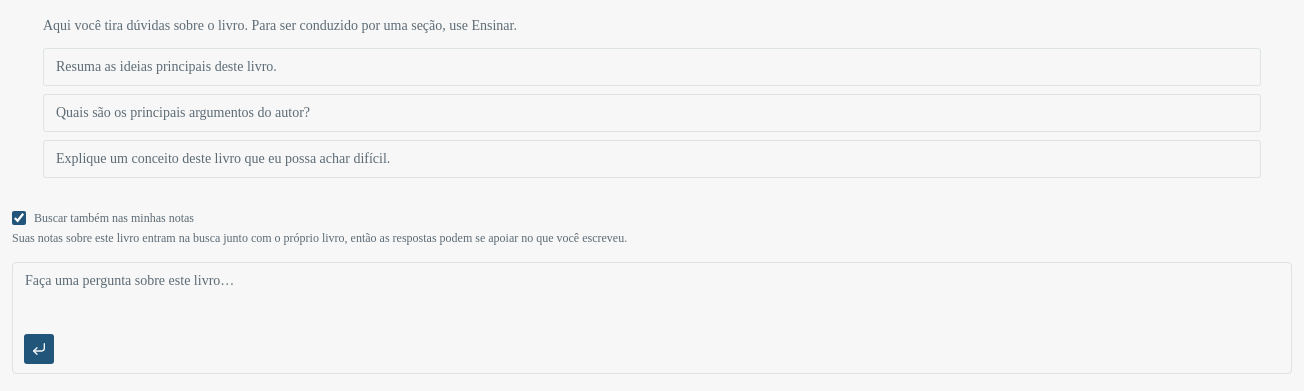
AskPanel in pt-BR › not-found answer and the locked notes choice: renders in pt-BR
This screenshot has width=1304, height=391.
Type "um termo sem sentido" into the text box with placeholder "Faça uma pergunta sobre este livro…".
click(652, 295); type("um termo sem sentido")  # box [13, 263, 1291, 327]
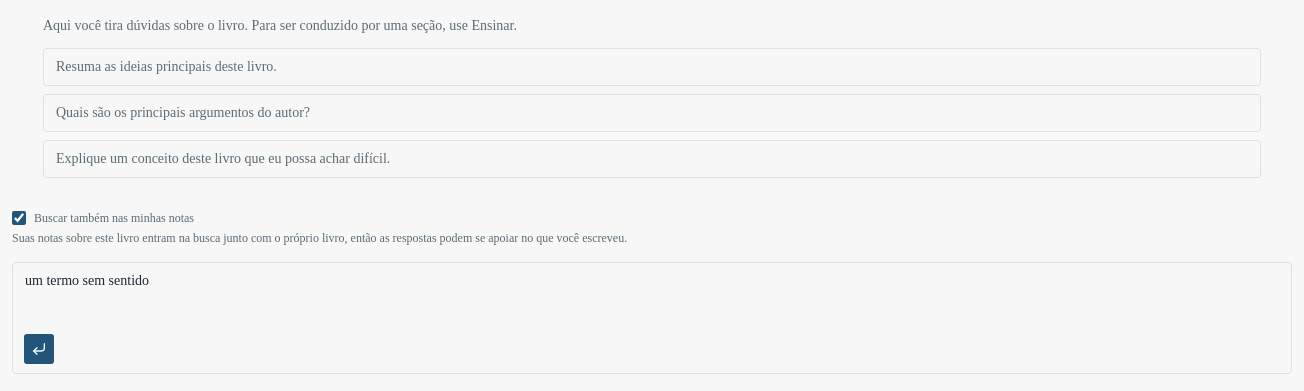
Click the button named "Enviar".
click(39, 349)  # box [23, 333, 55, 365]
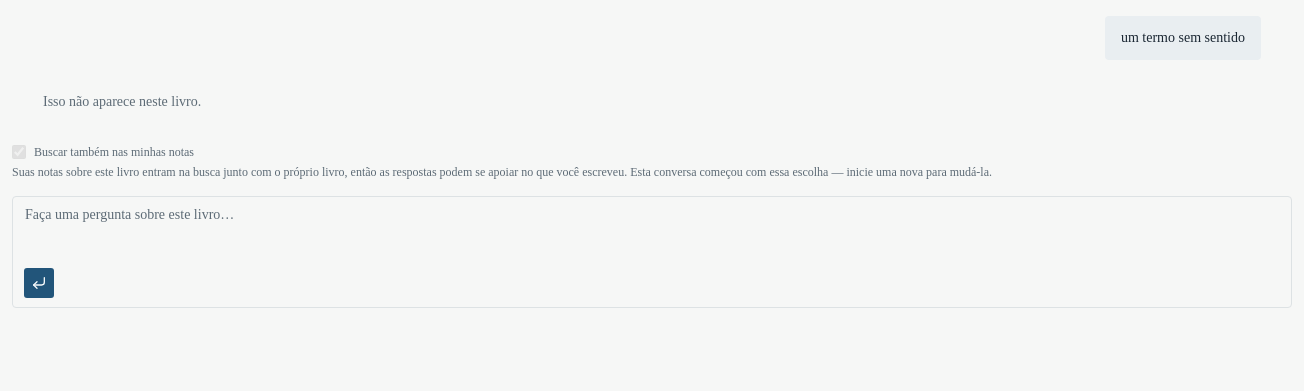
Now the text with test id "not-found" reads "Isso não aparece neste livro.", box [43, 94, 201, 109]
Now the checkbox labelled "Buscar também nas minhas notas" is disabled, box [12, 145, 26, 159]
